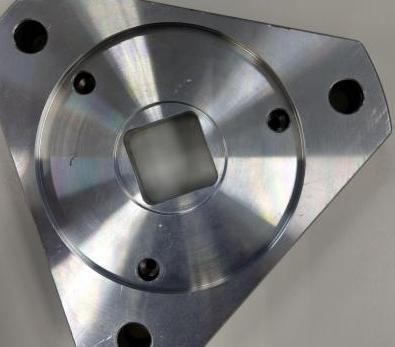hole: (325, 76, 367, 116), (10, 16, 49, 56), (113, 320, 155, 347), (134, 256, 162, 283), (265, 107, 292, 134), (70, 69, 97, 96)
